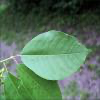Cherry leaf: (20, 29, 94, 81), (17, 63, 63, 100), (3, 71, 34, 99)
